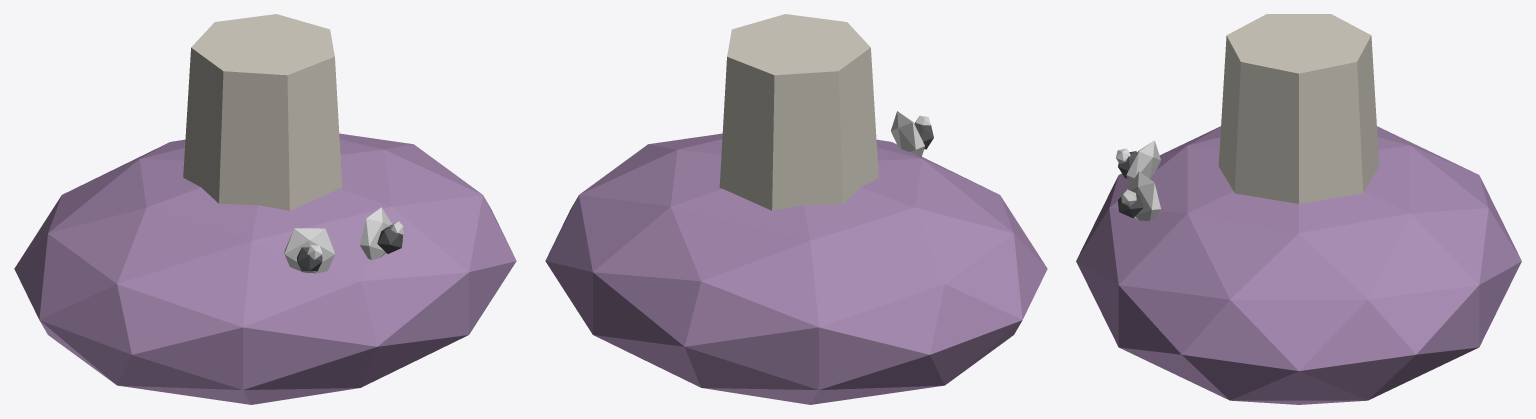
The model's file is tremella-fuciformis.glb.
3 renders of one model, left to right at view 1: azimuth 30°, elevation 25°; view 2: azimuth 150°, elevation 25°; view 3: azimuth 270°, elevation 25°, orthographic.
Visible parts, largest first — view 1: blob, stalk, pface-eye-r, pface-eye-l, pface-pupil-l; view 2: blob, stalk, pface-eye-r; view 3: blob, stalk, pface-eye-l, pface-eye-r.
Part boxes in pixels (x1,y1,x2,y2): blob: [14, 133, 516, 404]; stalk: [183, 14, 342, 210]; pface-eye-r: [284, 228, 335, 273]; pface-eye-l: [360, 207, 391, 260]; pface-pupil-l: [377, 226, 402, 253]; blob: [545, 133, 1047, 404]; stalk: [719, 14, 878, 210]; pface-eye-r: [891, 111, 924, 157]; blob: [1076, 126, 1521, 404]; stalk: [1218, 14, 1379, 203]; pface-eye-l: [1128, 171, 1160, 220]; pface-eye-r: [1126, 140, 1160, 185].
Bounding box in the file's own units: 0.28 × 0.19 × 0.24.
